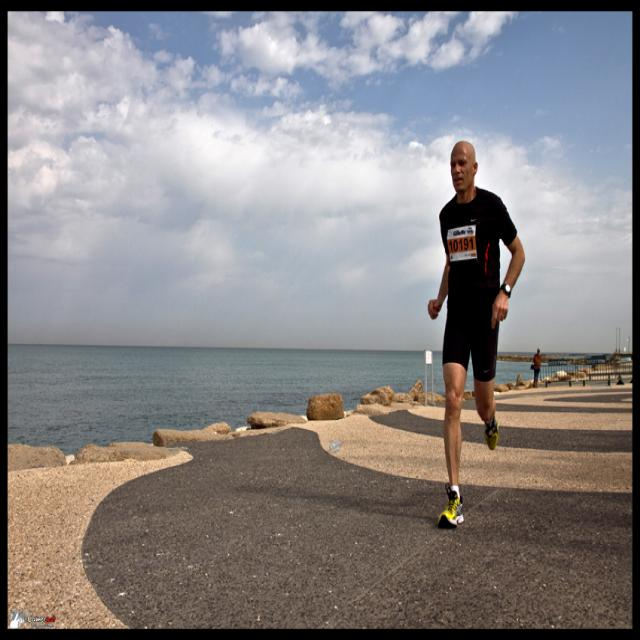Bib: (448, 237, 474, 253)
